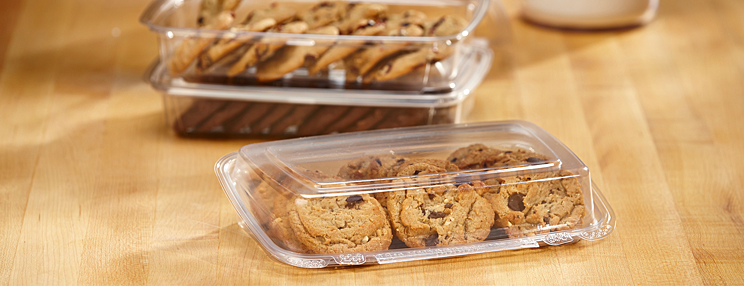PlasticBox: (212, 118, 618, 279)
